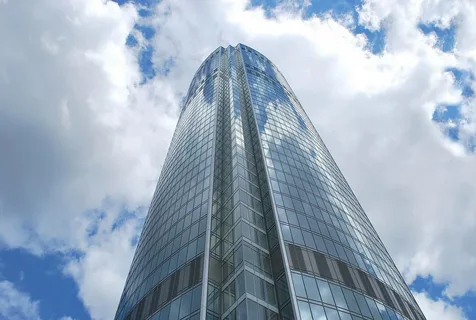high_rise_building: (163, 34, 340, 320)
